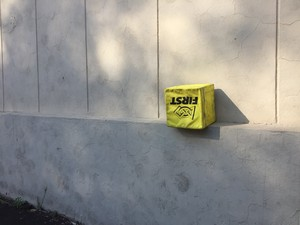cube: (168, 83, 216, 129)
